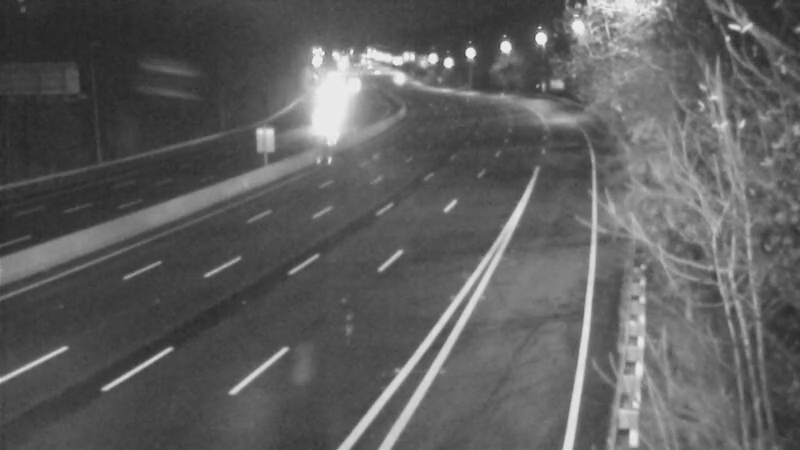vehicle: (371, 53, 421, 103), (303, 102, 353, 152)
